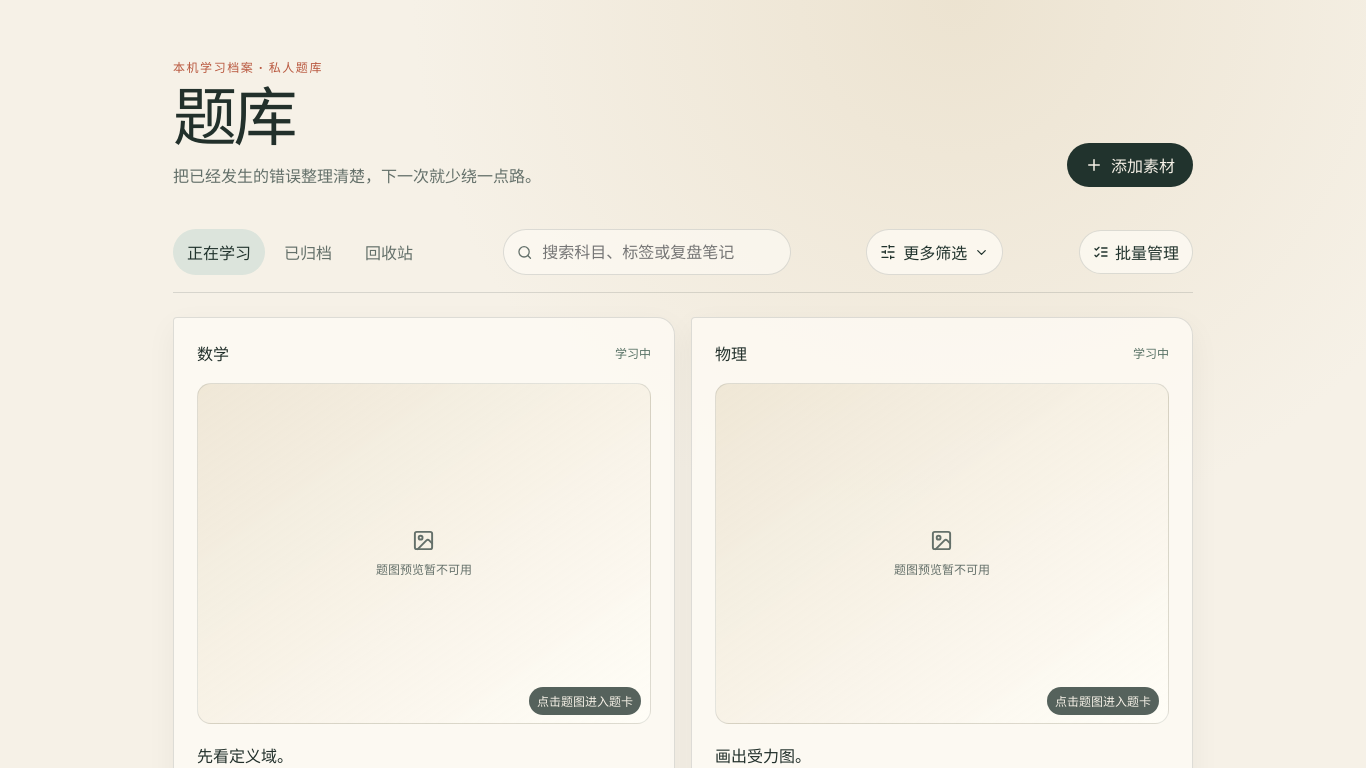
LibraryView manual review deck › keeps the selection actionable when session creation fails
Expected: the text "先看定义域。" is shown, left=197, top=744, right=293, bottom=766
Click the button "批量管理". click: click(1136, 252)
box: left=1079, top=230, right=1193, bottom=274
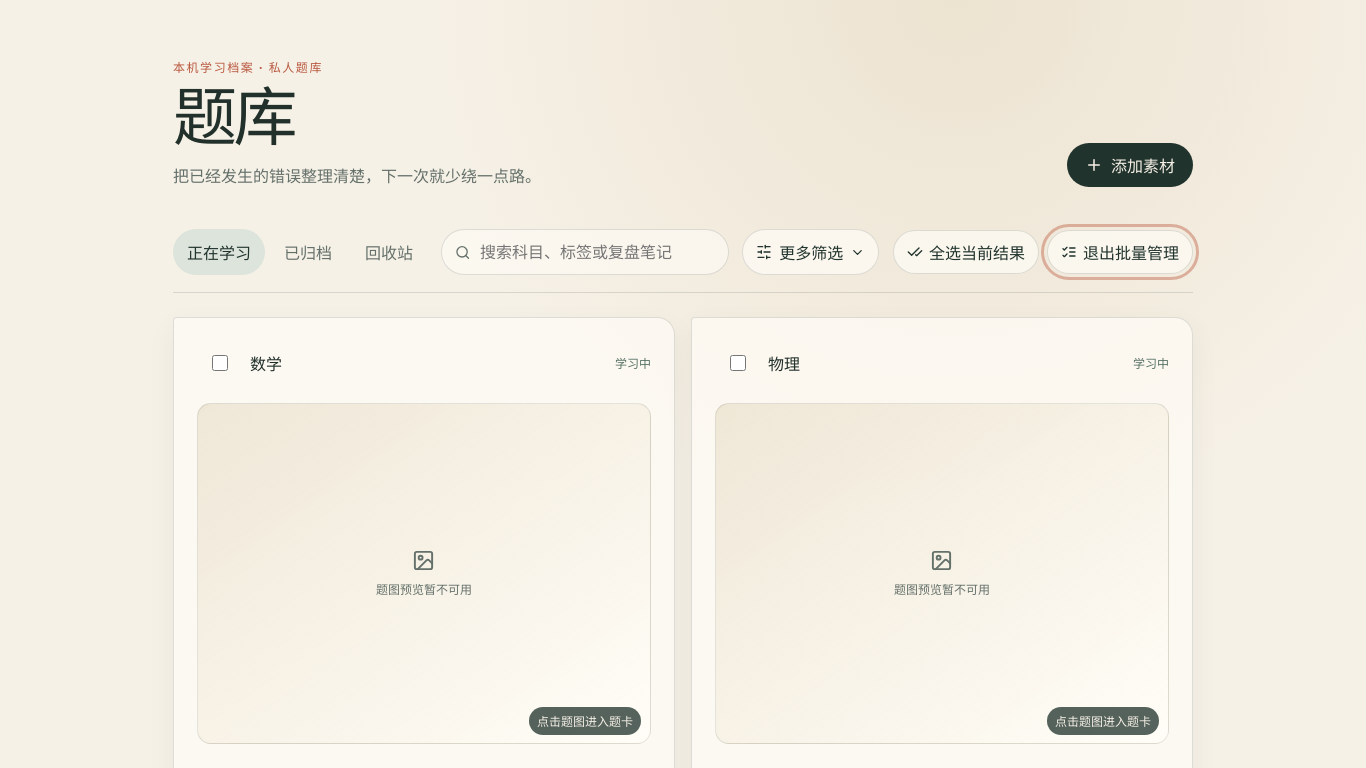
Click the checkbox named "选择 数学 错题". click: click(220, 363)
box: left=212, top=355, right=228, bottom=371
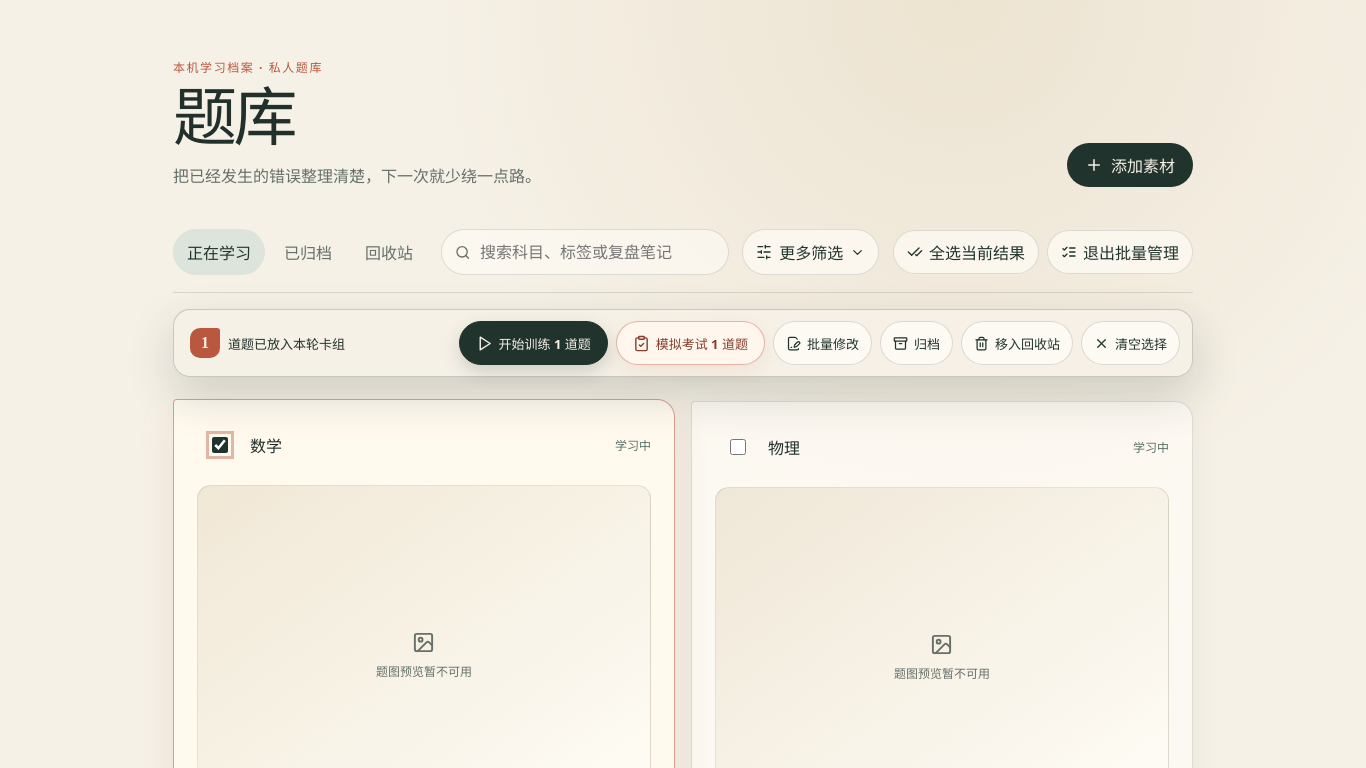
Click the button "开始训练 1 道题". click: click(533, 343)
box: left=458, top=321, right=608, bottom=365
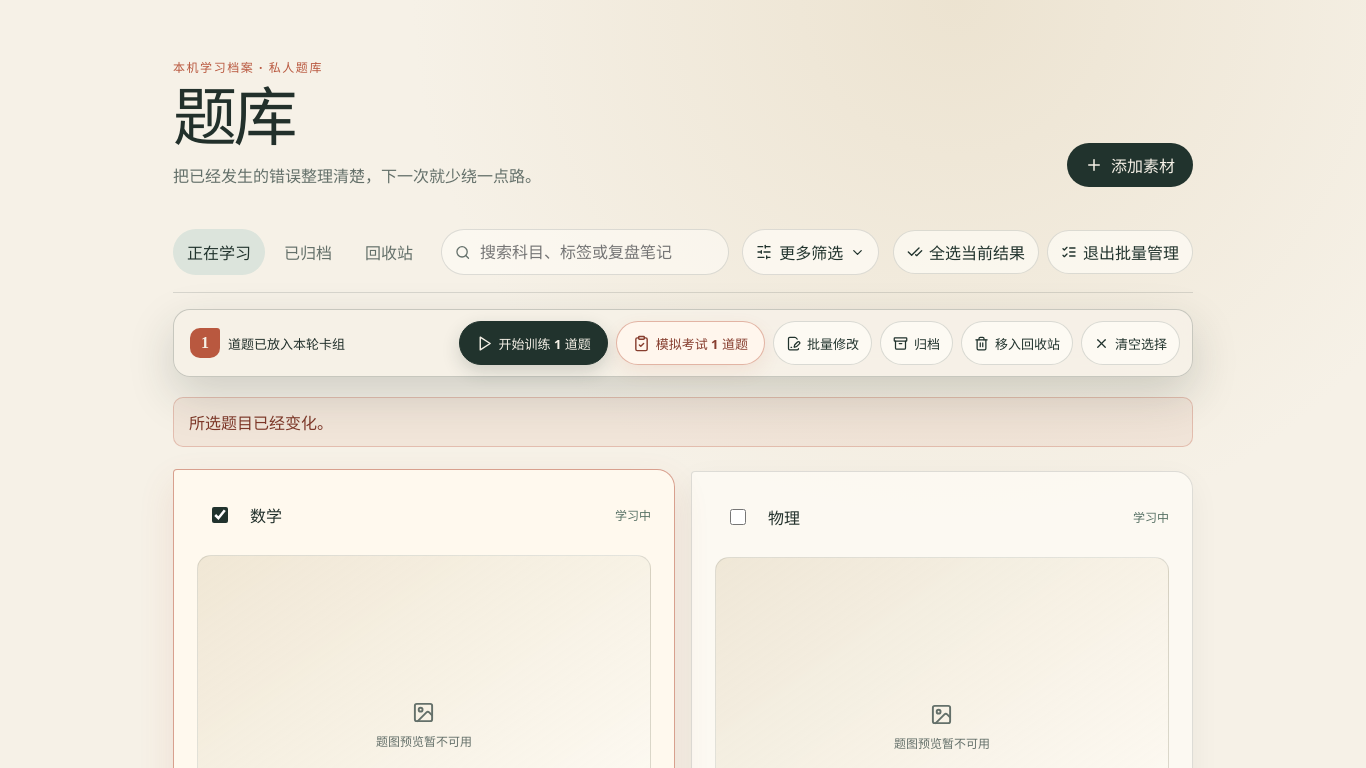
Result: the checkbox named "选择 数学 错题" is checked at left=212, top=507, right=228, bottom=523
Result: the button "开始训练 1 道题" is enabled at left=458, top=321, right=608, bottom=365
Result: the message "所选题目已经变化。" is shown at left=173, top=397, right=1193, bottom=447
